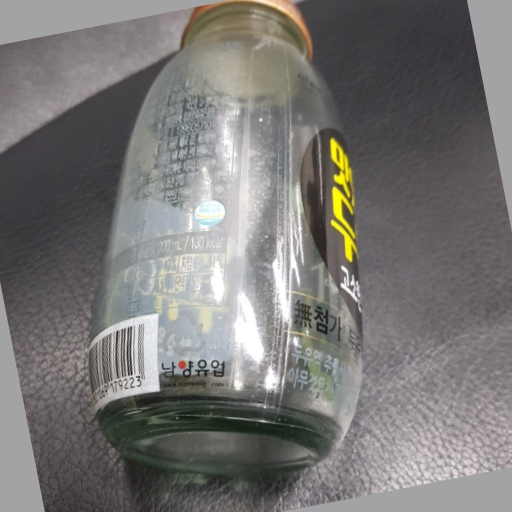Glass_4: (88, 4, 367, 479)
